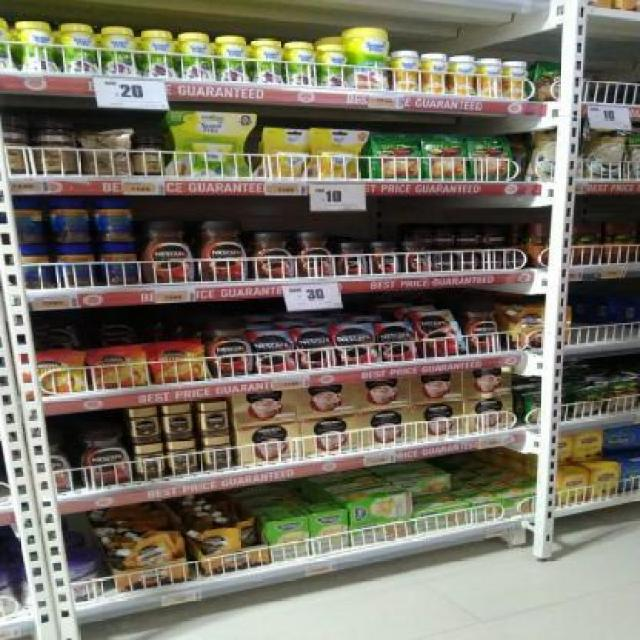Coffee: (139, 218, 193, 282), (200, 218, 245, 280), (19, 352, 82, 393), (85, 425, 129, 483), (208, 314, 249, 375), (416, 311, 461, 355), (91, 351, 146, 387), (252, 233, 293, 278), (466, 304, 500, 354), (152, 347, 202, 381), (298, 232, 334, 276), (254, 334, 291, 371), (337, 328, 372, 363), (298, 332, 332, 368), (378, 326, 414, 359), (339, 242, 367, 275), (200, 404, 228, 434), (136, 446, 164, 476), (132, 410, 158, 442), (169, 442, 196, 472), (373, 242, 399, 273), (166, 407, 191, 438), (204, 439, 231, 467), (404, 242, 427, 272), (432, 254, 454, 271), (483, 229, 506, 245), (459, 229, 478, 248), (458, 254, 480, 270), (484, 252, 502, 270), (435, 229, 454, 246), (506, 252, 525, 268), (410, 228, 432, 241)
